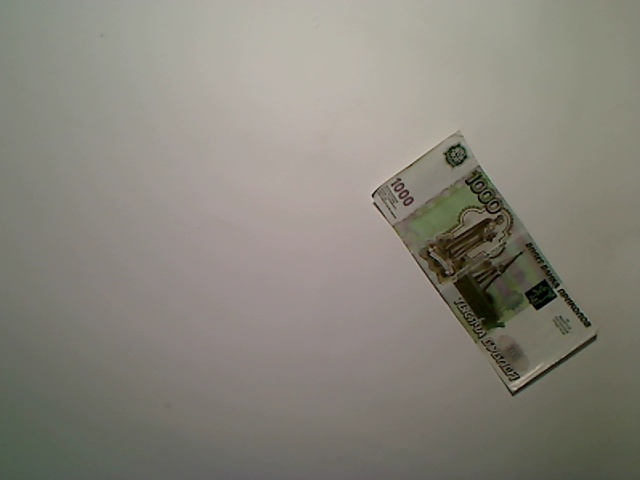banknotes: (365, 124, 603, 401)
